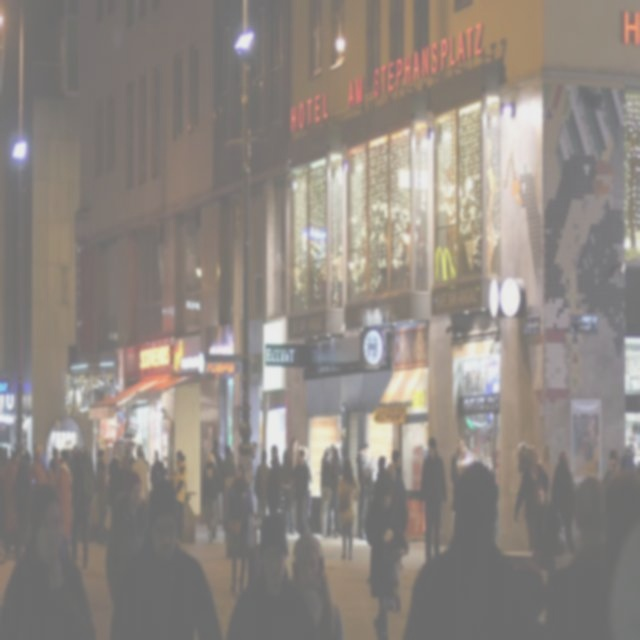pessoa: (398, 453, 534, 639), (546, 446, 640, 638), (110, 492, 226, 639), (0, 482, 99, 639), (222, 513, 316, 639), (290, 530, 346, 638), (108, 468, 150, 610), (0, 438, 48, 562), (363, 476, 399, 639), (376, 208, 436, 291), (418, 433, 449, 576), (222, 462, 254, 594), (48, 445, 84, 552), (70, 446, 96, 570), (512, 434, 546, 526), (306, 238, 354, 302), (550, 450, 576, 558), (336, 454, 361, 562), (354, 440, 376, 543), (171, 446, 189, 548), (372, 453, 389, 556), (202, 450, 220, 546), (219, 442, 237, 530), (207, 436, 225, 524), (266, 444, 286, 519), (148, 448, 168, 523), (280, 446, 296, 538), (286, 433, 300, 532), (295, 448, 310, 540), (318, 446, 332, 538), (328, 446, 342, 538), (532, 481, 550, 552), (253, 448, 271, 518), (450, 434, 466, 512), (130, 445, 150, 503), (392, 534, 410, 574), (106, 443, 125, 476), (390, 448, 405, 488), (479, 433, 495, 463), (306, 473, 312, 536), (324, 500, 334, 536), (138, 442, 150, 472), (124, 440, 137, 464), (95, 448, 106, 475), (385, 462, 398, 484), (250, 440, 260, 463), (328, 442, 334, 459)
